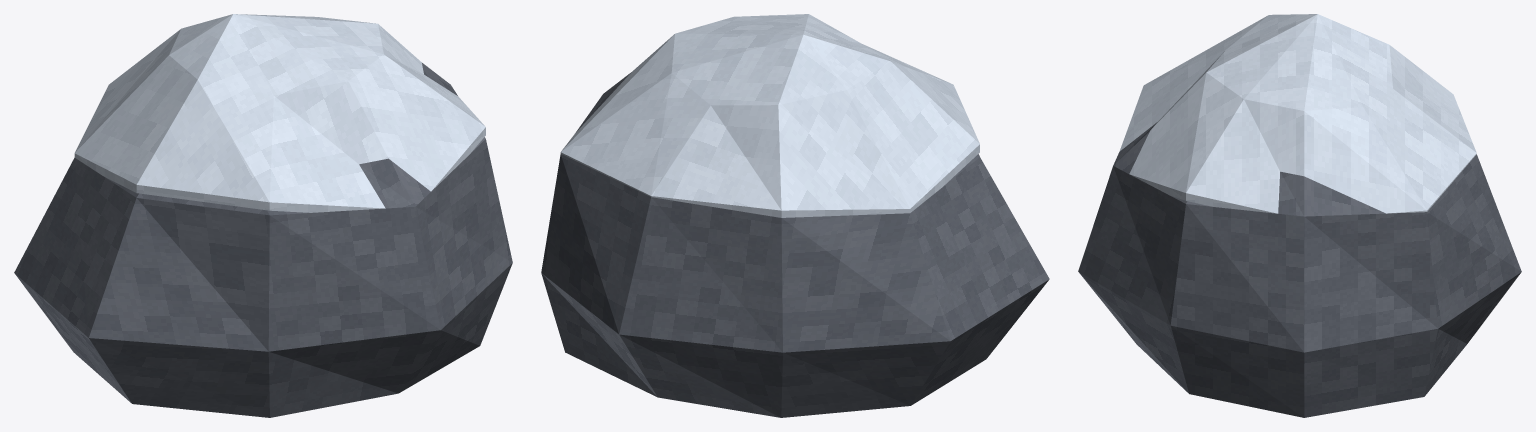
File: boulder_snow.glb
3 renders of one model, left to right at view 1: azimuth 30°, elevation 25°; view 2: azimuth 150°, elevation 25°; view 3: azimuth 270°, elevation 25°, orthographic. The views are drawn at different scales.
Visible parts, largest first — view 1: boulder_snow; view 2: boulder_snow; view 3: boulder_snow.
Part boxes in pixels (bbox=[...]): boulder_snow: bbox=[14, 14, 512, 417]; boulder_snow: bbox=[541, 14, 1049, 417]; boulder_snow: bbox=[1078, 14, 1521, 417].
Size of the model in its own units: 1.4 by 0.97 by 1.3.
5 materials, 5 textured.
